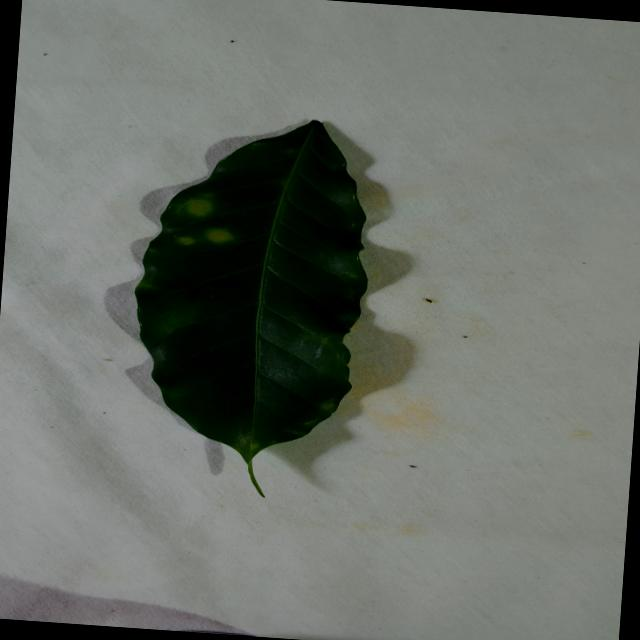KaratDaunKopi: (186, 199, 211, 216), (205, 228, 233, 243), (176, 236, 195, 245), (319, 403, 335, 411)
